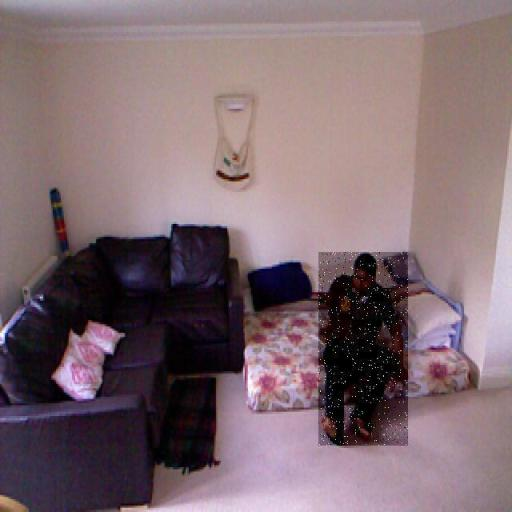Fall: (318, 252, 408, 446)
